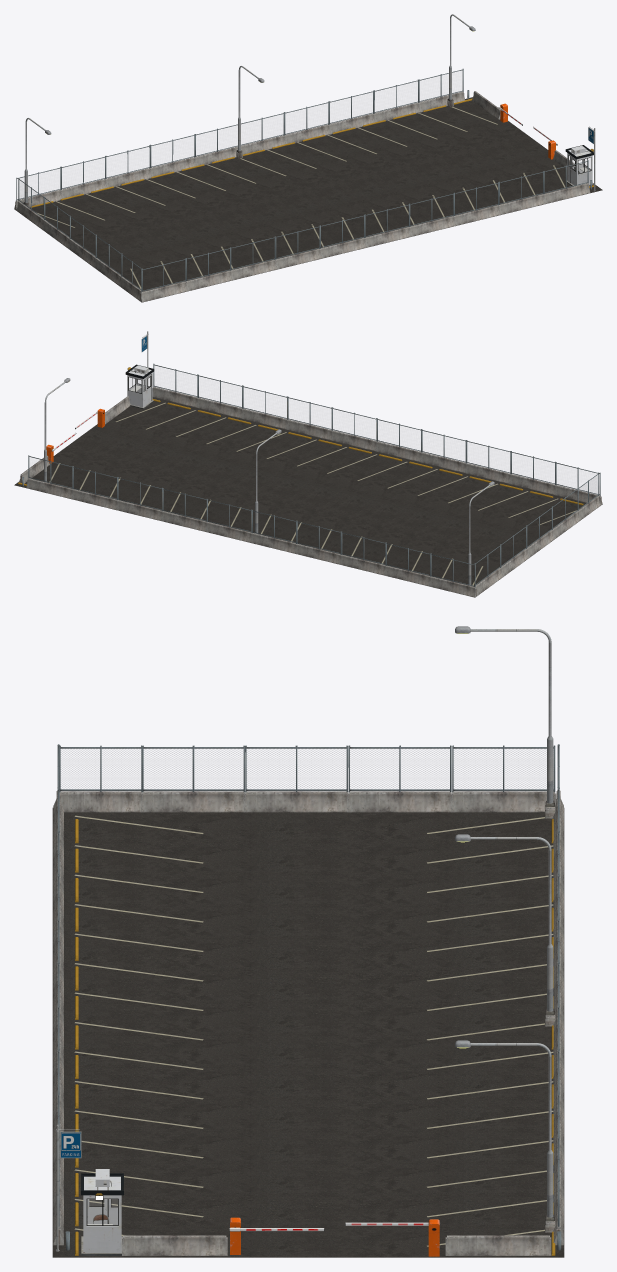
The picture shows the model from 3 angles, top to bottom: view 1: azimuth 30°, elevation 25°; view 2: azimuth 150°, elevation 25°; view 3: azimuth 270°, elevation 25°; orthographic projection. The views are drawn at different scales.
Visible parts, largest first — view 1: Base; view 2: Base; view 3: Base.
Part boxes in pixels (x1,y1,x2,y2): Base: [14, 14, 602, 302]; Base: [14, 331, 602, 597]; Base: [52, 626, 564, 1257].
Size of the model in its own units: 35.97 by 7.06 by 17.21.
25 materials, 21 textured.
